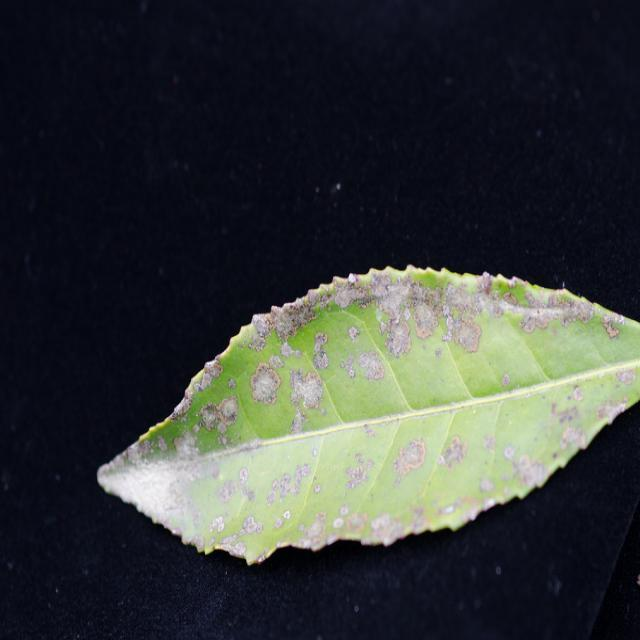Tea red rust: (177, 274, 579, 558)
